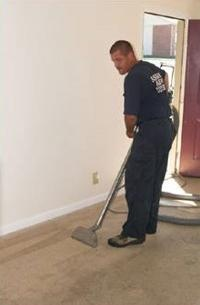person without safety: (104, 36, 178, 251)
